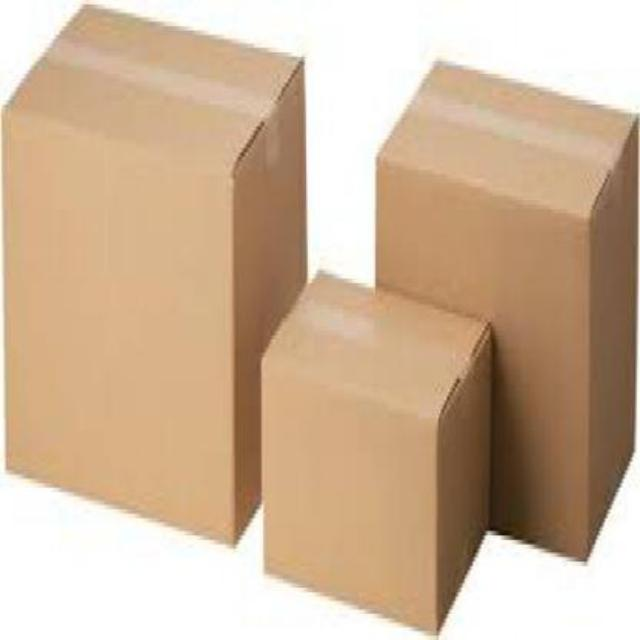cardboard_box: (6, 4, 312, 560), (377, 49, 629, 569), (260, 259, 494, 631)
